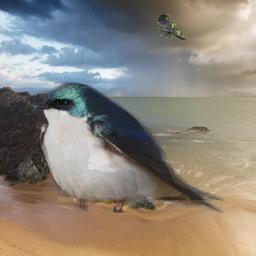Crow: (157, 14, 186, 40)
Swallow: (30, 80, 224, 213)
